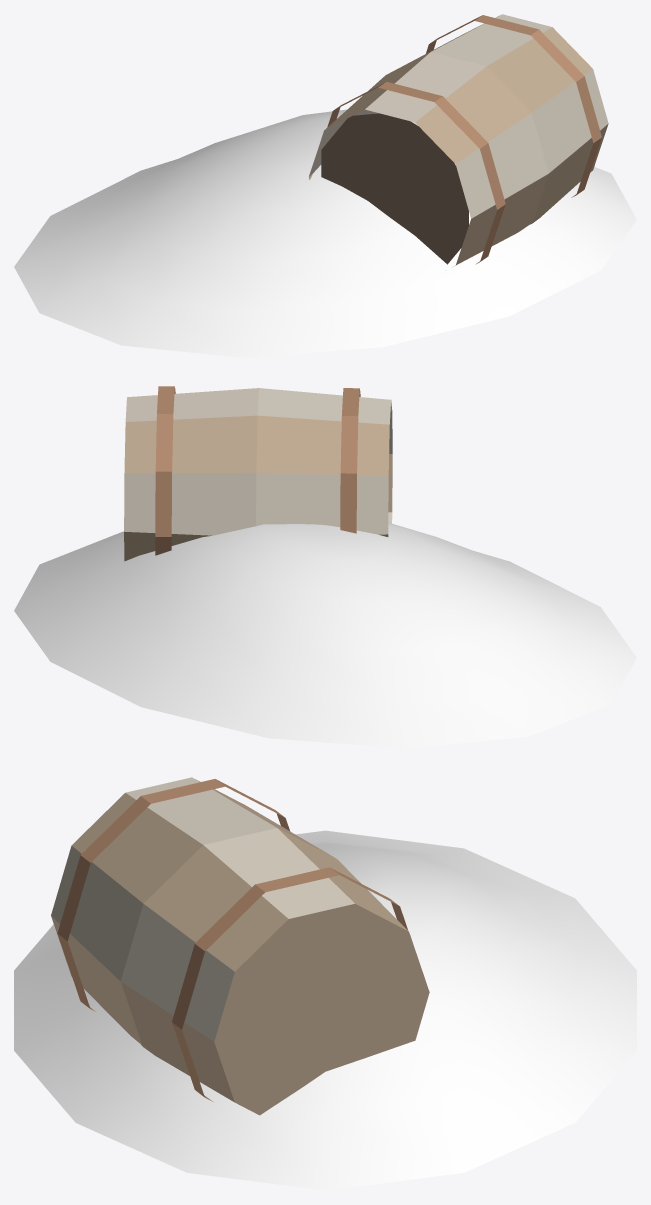
Rendered from caravana_barril.glb.
The picture shows the model from 3 angles, top to bottom: view 1: azimuth 30°, elevation 25°; view 2: azimuth 150°, elevation 25°; view 3: azimuth 270°, elevation 25°; orthographic projection. The views are drawn at different scales.
Parts seen in each view (by area): view 1: caravana_barril_arena, caravana_barril; view 2: caravana_barril_arena, caravana_barril; view 3: caravana_barril_arena, caravana_barril.
Part boxes in pixels (left/top/right/bottom): caravana_barril_arena: left=14, top=109, right=636, bottom=357; caravana_barril: left=308, top=14, right=608, bottom=266; caravana_barril_arena: left=14, top=522, right=636, bottom=748; caravana_barril: left=124, top=386, right=392, bottom=561; caravana_barril_arena: left=14, top=830, right=636, bottom=1190; caravana_barril: left=51, top=777, right=429, bottom=1115.
Size of the model in its own units: 2 by 0.6166 by 1.46.
